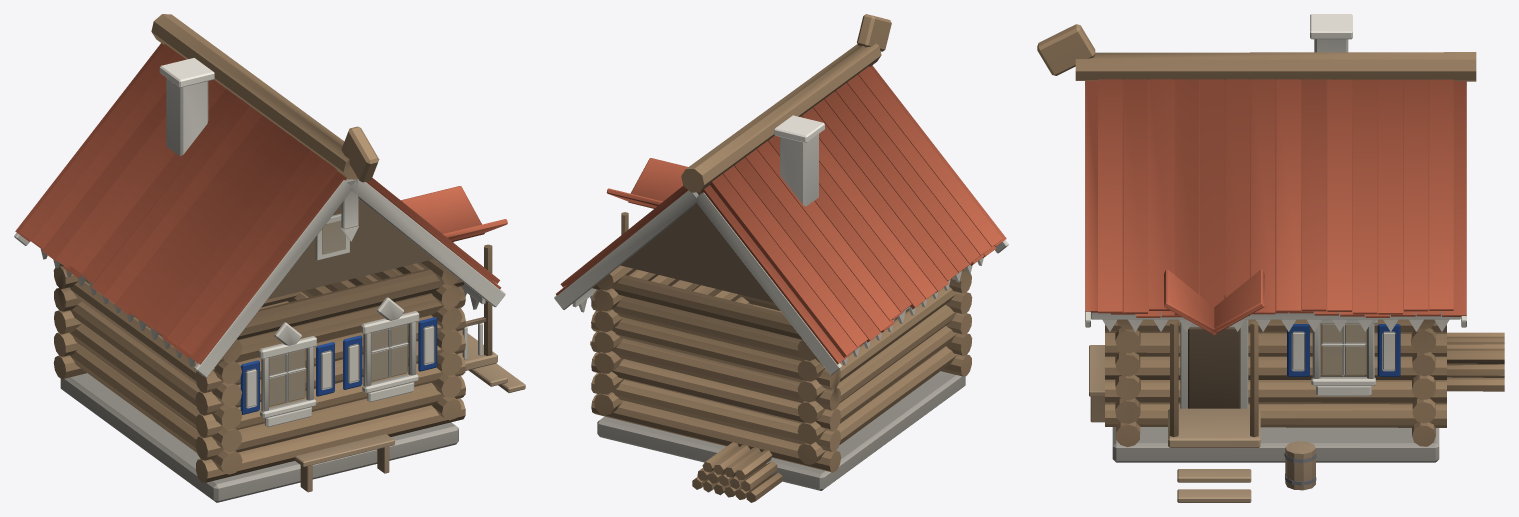
The model's file is bld_izba_e1.glb.
3 views of the same model, side by side, from view 1: azimuth 30°, elevation 25°; view 2: azimuth 150°, elevation 25°; view 3: azimuth 270°, elevation 25° (orthographic). The views are drawn at different scales.
Visible parts, largest first — view 1: izba; view 2: izba; view 3: izba.
Part boxes in pixels (x1,y1,x2,y2): izba: (14, 14, 525, 502); izba: (554, 14, 1008, 502); izba: (1037, 14, 1504, 502).
Bounding box in the file's own units: 1.47 × 1.34 × 1.52.
